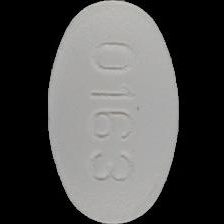0904-6283: (0, 0, 224, 224)
